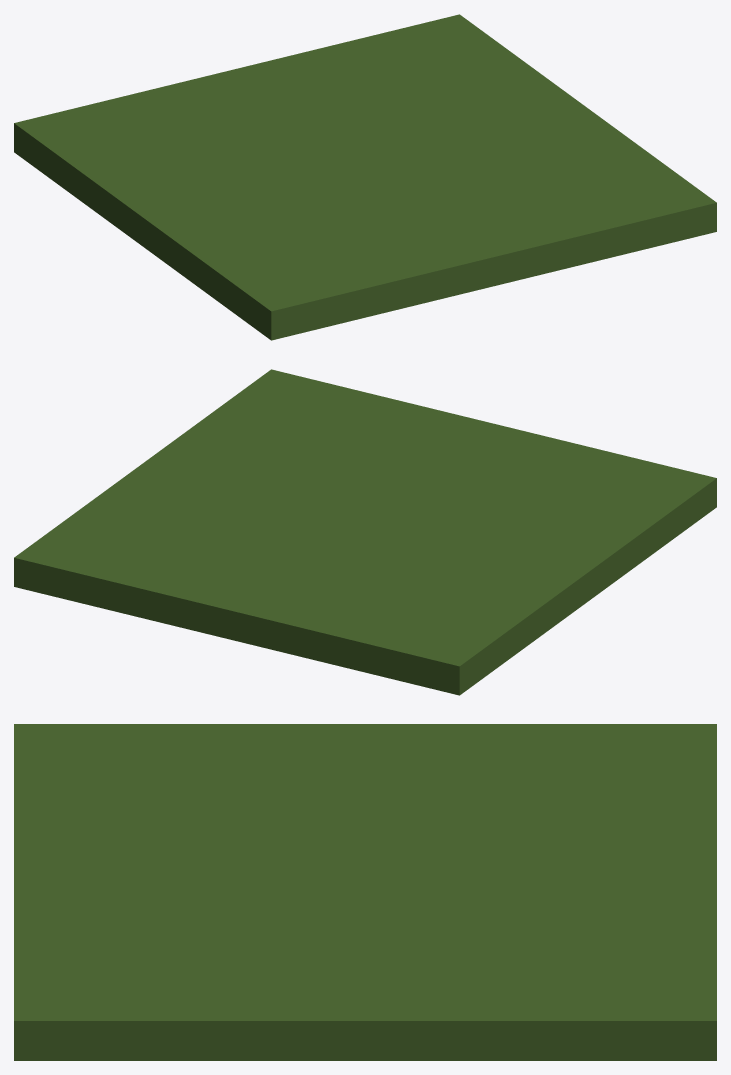
The model's file is forest.gltf.
The picture shows the model from 3 angles, top to bottom: view 1: azimuth 30°, elevation 25°; view 2: azimuth 150°, elevation 25°; view 3: azimuth 270°, elevation 25°; orthographic projection. The views are drawn at different scales.
Parts seen in each view (by area): view 1: forest; view 2: forest; view 3: forest.
Part boxes in pixels (bbox=[...]): forest: bbox=[14, 14, 716, 340]; forest: bbox=[14, 369, 716, 695]; forest: bbox=[14, 724, 716, 1060].
Bounding box in the file's own units: 16 × 1 × 16.
1 material, 1 textured.
